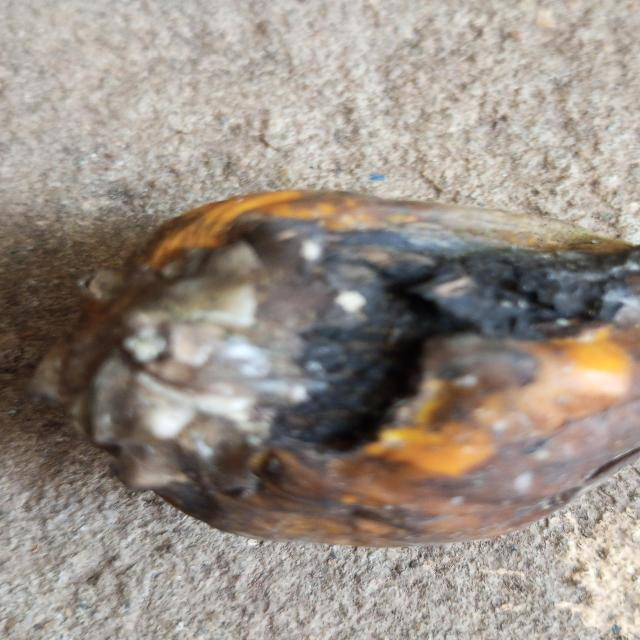damaged: (32, 190, 640, 545)
